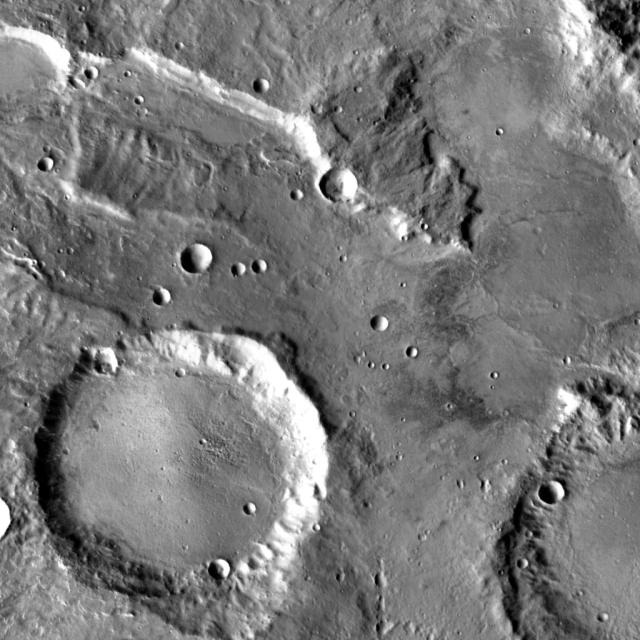crater: (38, 318, 334, 594), (503, 396, 639, 640), (0, 19, 74, 123), (319, 165, 358, 201), (179, 244, 211, 274), (224, 151, 252, 177), (537, 480, 564, 505), (94, 352, 120, 376), (208, 558, 232, 580), (370, 316, 388, 333), (152, 290, 170, 306), (37, 157, 53, 172), (251, 259, 267, 274), (254, 79, 270, 94), (375, 572, 391, 587), (232, 262, 246, 276), (72, 77, 85, 90), (375, 622, 389, 634), (84, 67, 98, 79), (290, 188, 302, 200), (404, 623, 416, 635), (311, 102, 323, 114), (406, 347, 418, 358), (243, 504, 256, 514), (518, 558, 529, 568), (137, 108, 148, 118), (598, 612, 608, 622), (482, 480, 492, 490), (456, 478, 466, 488), (310, 8, 320, 16), (392, 618, 401, 626), (42, 144, 51, 152), (176, 368, 184, 376), (136, 96, 144, 104), (354, 86, 362, 94), (419, 532, 427, 540), (340, 254, 348, 262), (318, 522, 326, 530), (336, 574, 344, 582), (526, 530, 534, 538), (354, 356, 362, 364), (38, 262, 46, 270), (383, 364, 391, 371), (368, 362, 376, 369), (66, 248, 74, 255), (421, 222, 429, 229), (426, 634, 435, 640), (563, 357, 570, 364), (335, 106, 343, 112), (376, 610, 384, 616), (175, 42, 182, 48), (492, 372, 498, 378)
